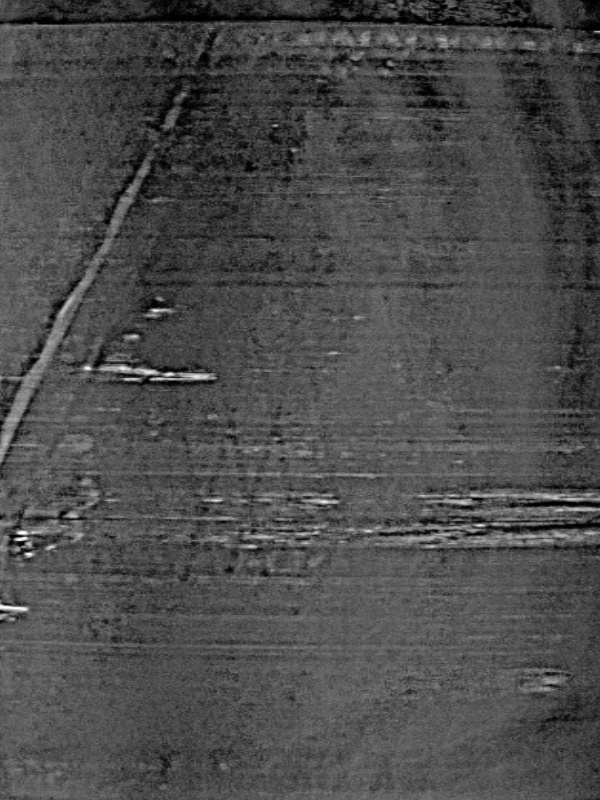splice_vulcanized: (2, 17, 241, 550)
